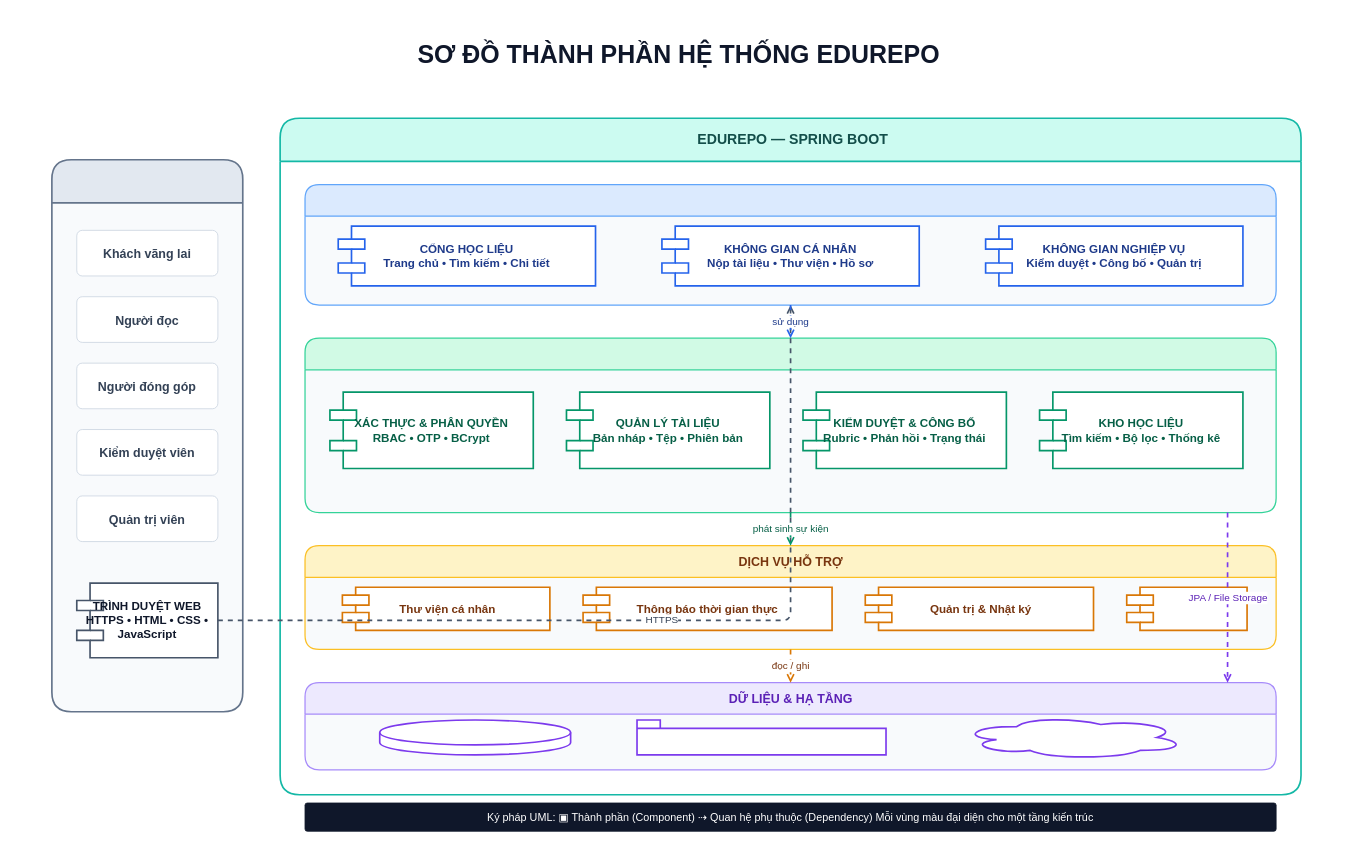
Some shapes in this 1356 by 858 pixel diagram are drawn without their labels. Here are the shapes that lost their labels. From the top down, the box of each, then its label:
(304, 184, 1276, 305): TẦNG TRÌNH BÀY
(51, 159, 243, 712): NGƯỜI SỬ DỤNG
(304, 337, 1276, 513): TẦNG NGHIỆP VỤ CỐT LÕI
(1125, 586, 1247, 631): Giám sát hệ thống
(378, 719, 571, 755): MySQL
(636, 719, 886, 755): Kho tệp & phiên bản
(959, 715, 1185, 759): Mail Server
